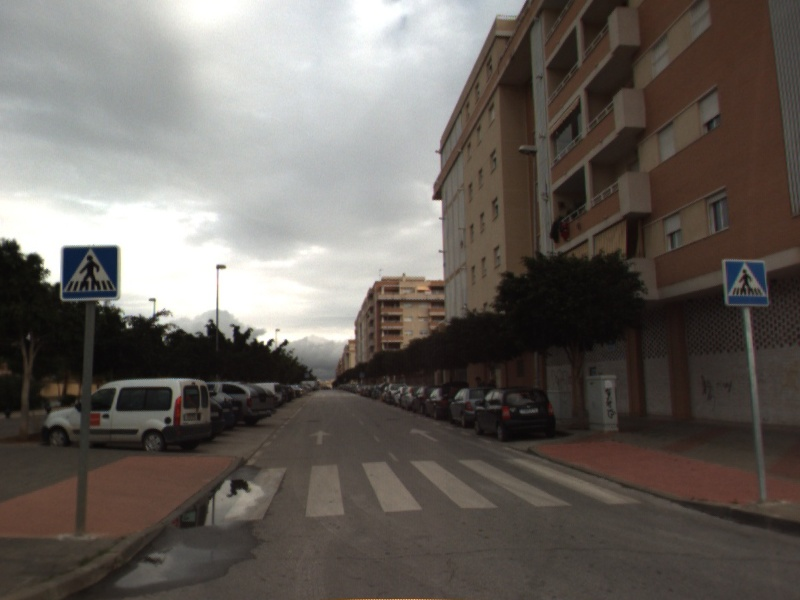STRAIGHT: (408, 426, 441, 443), (307, 428, 333, 446)
